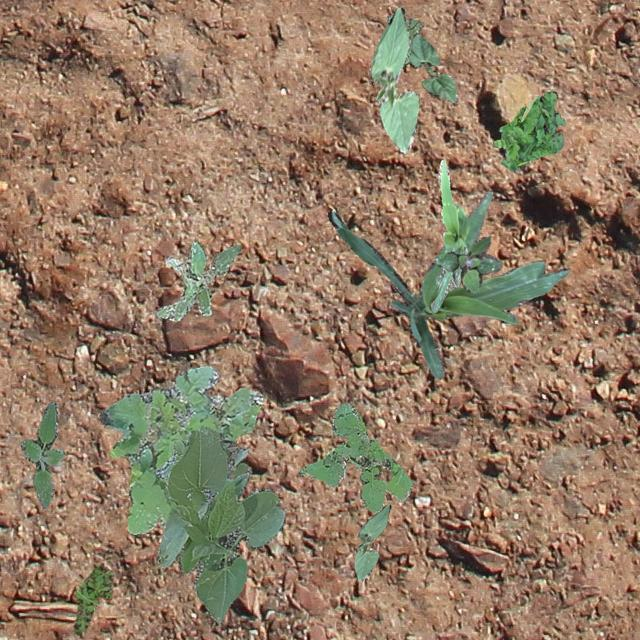crop: (327, 190, 568, 378), (156, 428, 284, 622), (368, 7, 418, 152), (429, 158, 468, 312), (408, 32, 456, 102), (354, 504, 389, 580)
weed: (100, 364, 262, 534), (296, 402, 412, 510), (156, 240, 240, 320), (492, 90, 564, 170), (154, 424, 250, 480), (20, 401, 64, 508), (434, 236, 500, 292), (72, 564, 112, 634), (384, 12, 422, 68)
